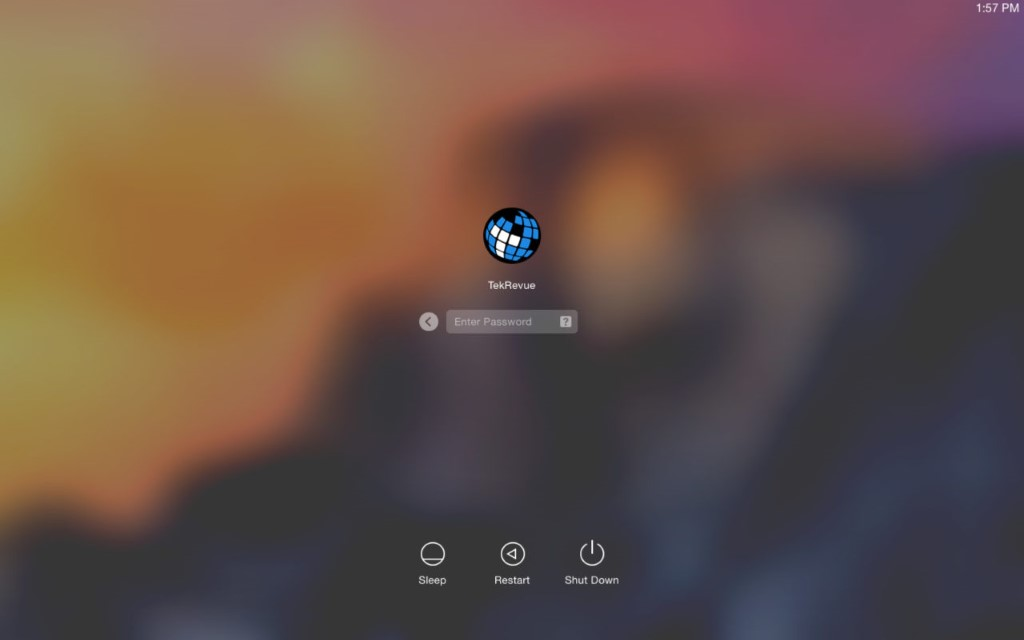label_password: (483, 314, 532, 332)
textbox: (448, 310, 558, 332)
